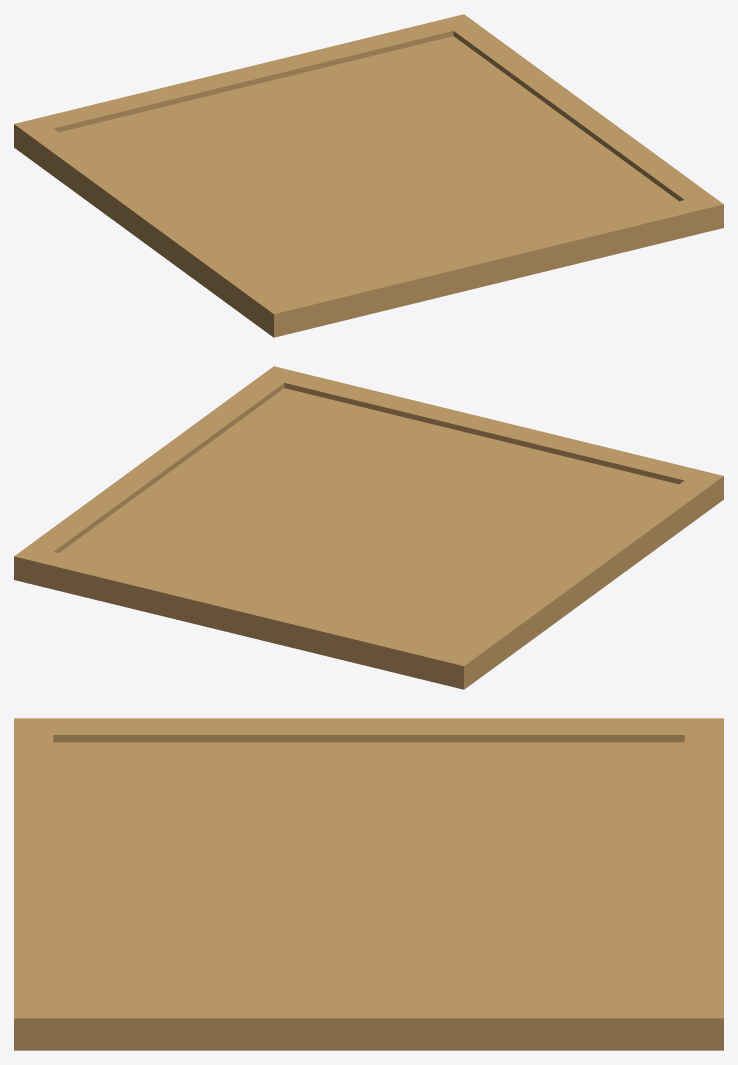
File: chess-board.glb
3 views of the same model, one above another, from view 1: azimuth 30°, elevation 25°; view 2: azimuth 150°, elevation 25°; view 3: azimuth 270°, elevation 25° (orthographic). The views are drawn at different scales.
Size of the model in its own units: 9 by 0.45 by 9.
